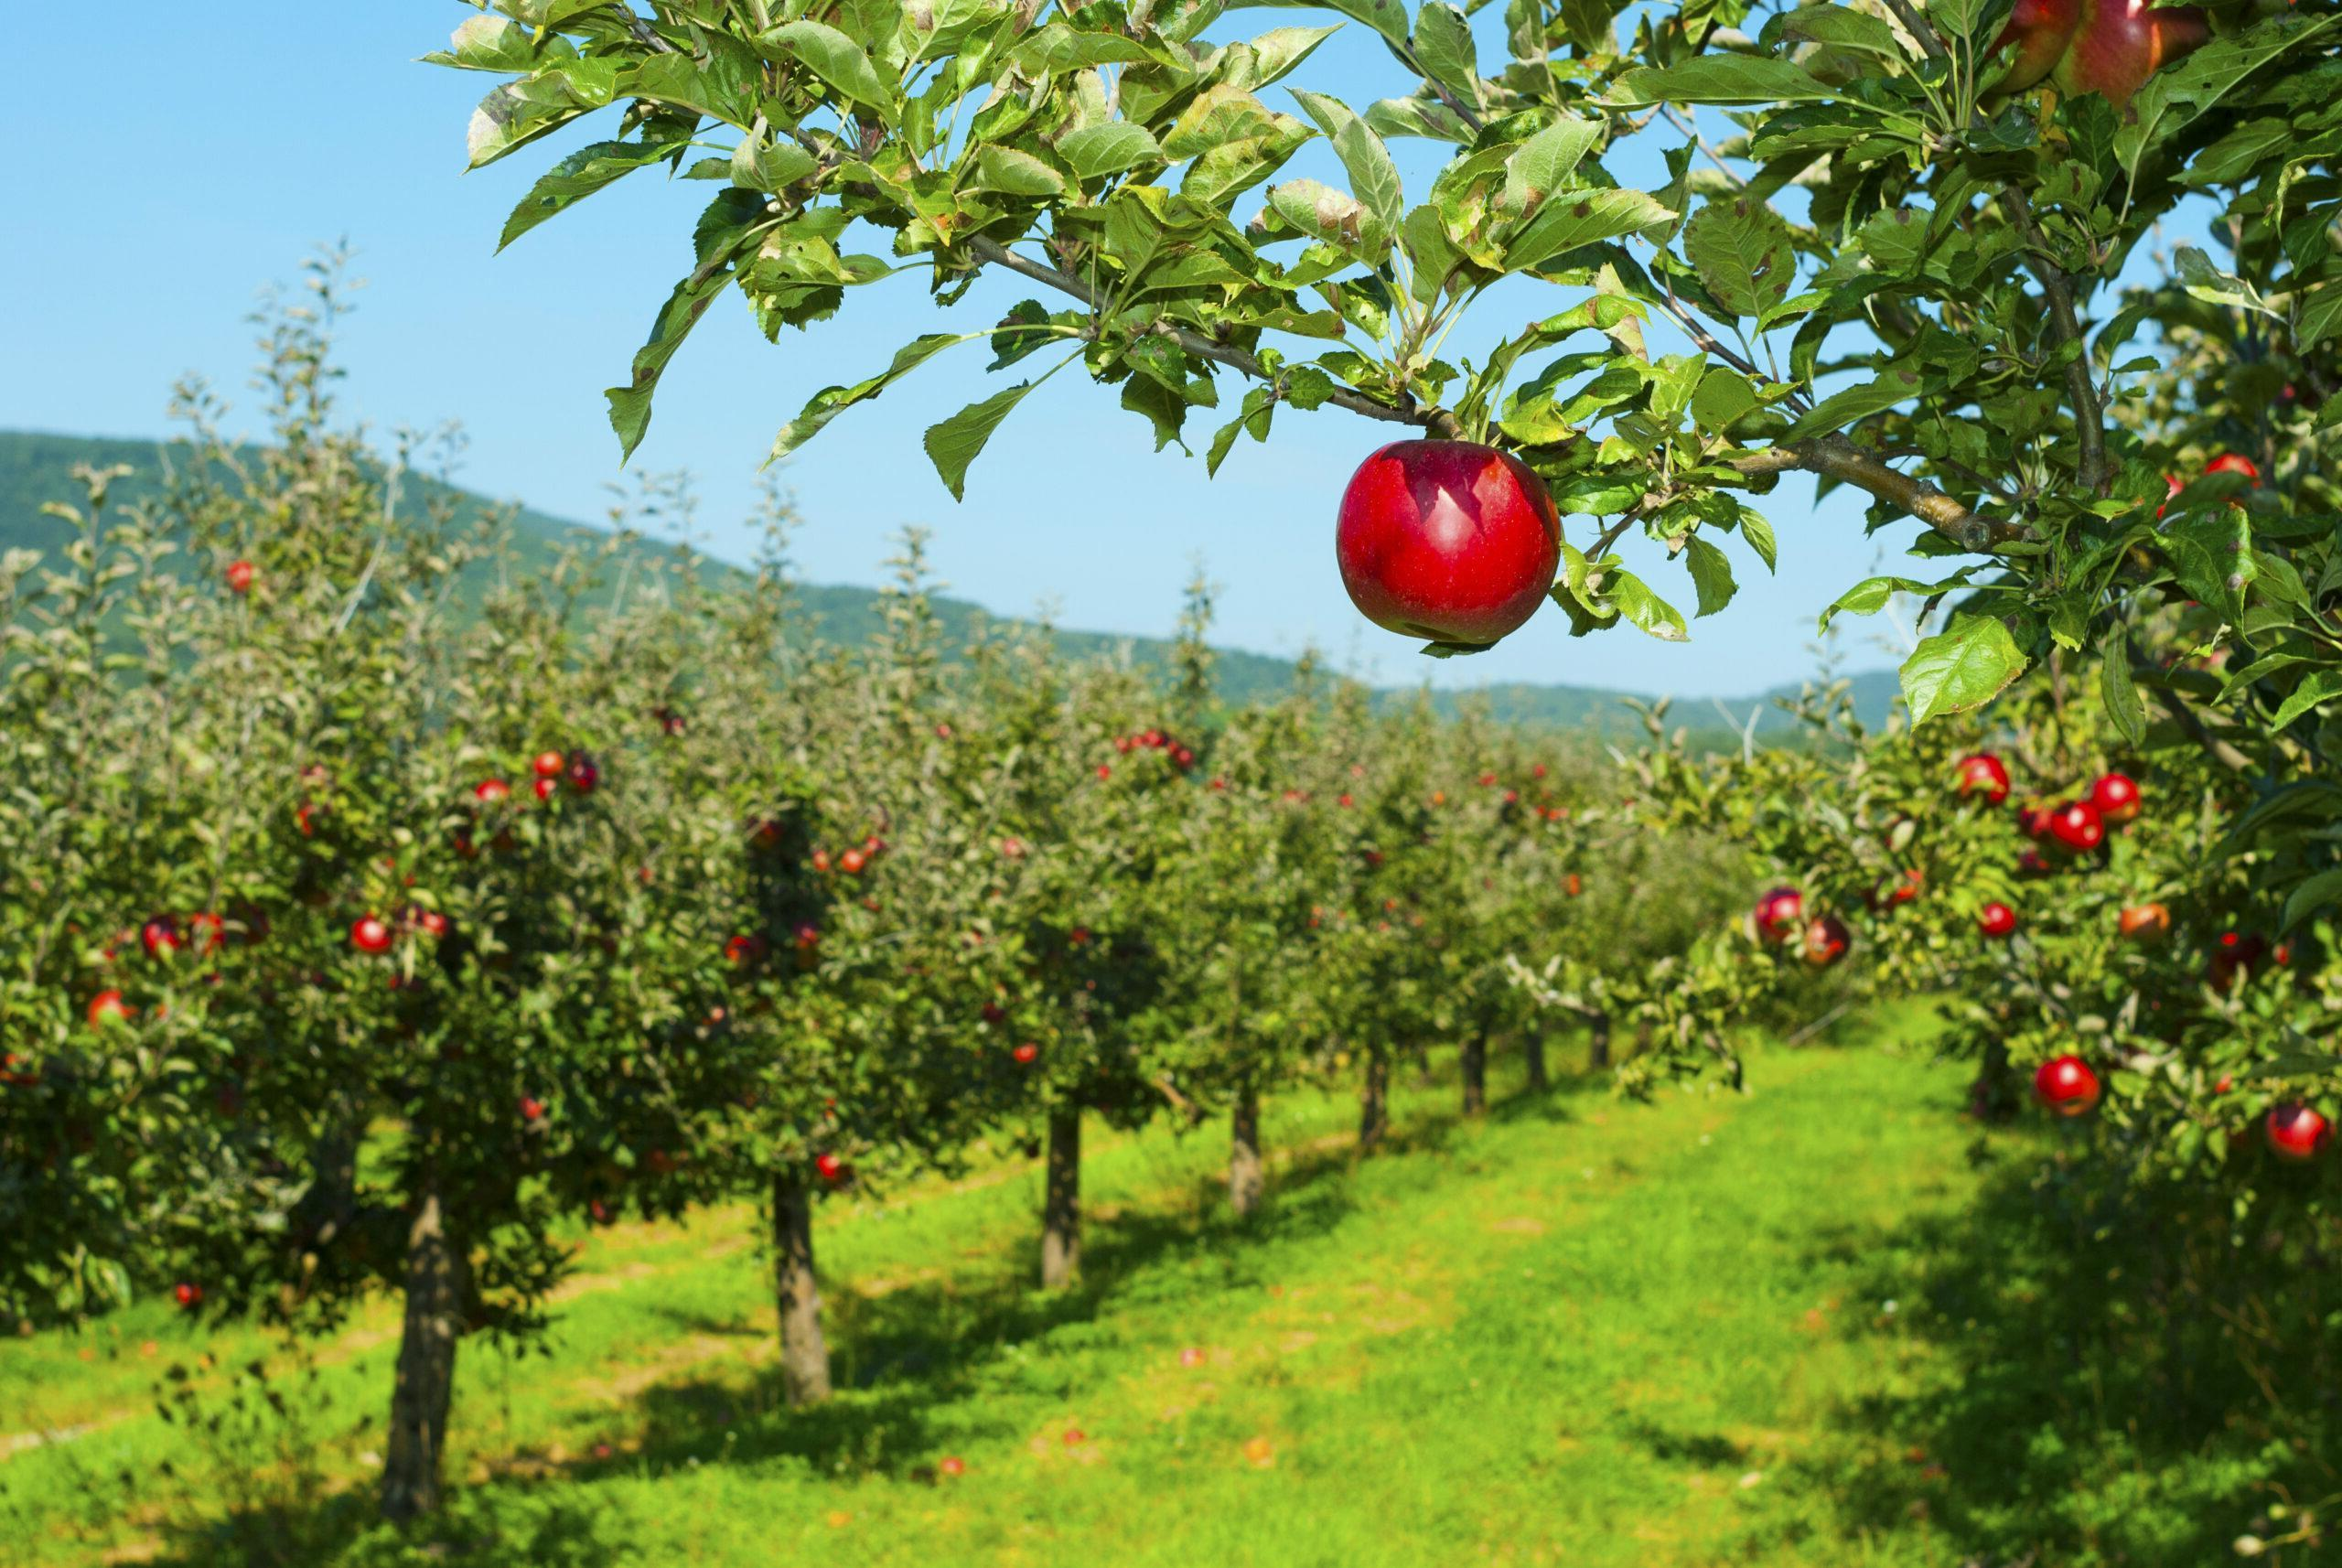apple: (1332, 436, 1558, 651)
